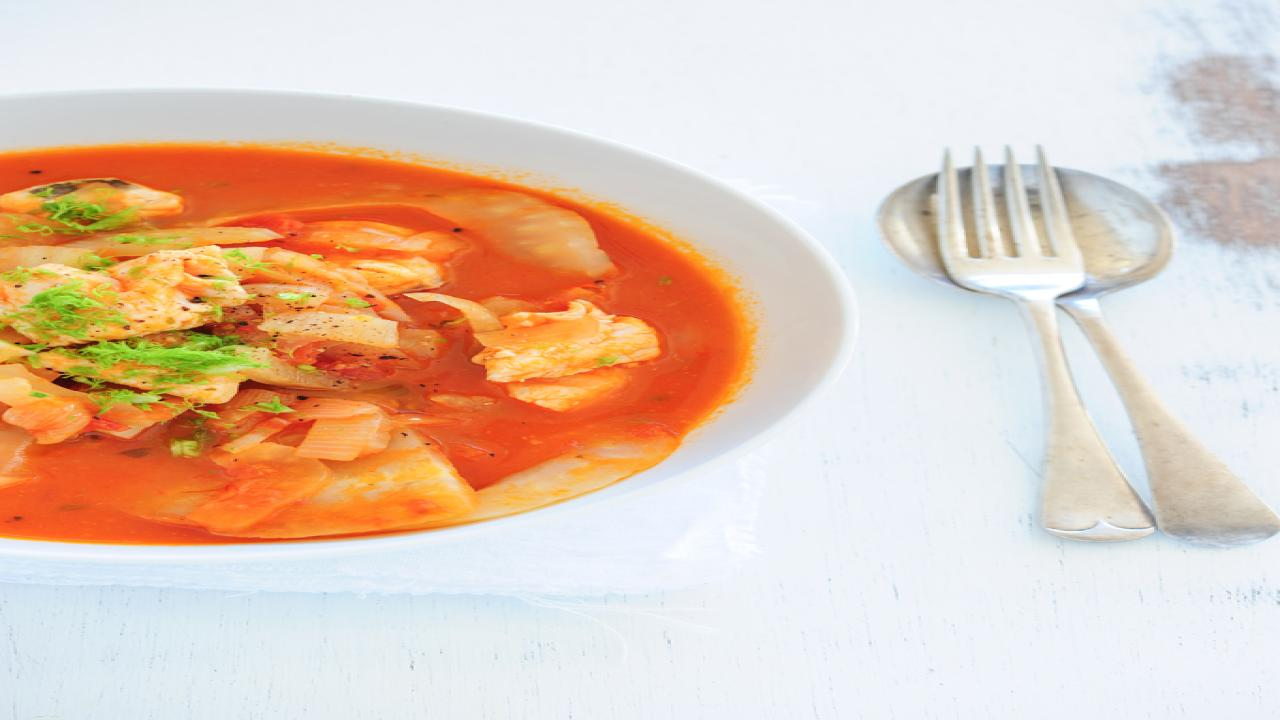fork: (918, 141, 1168, 544)
